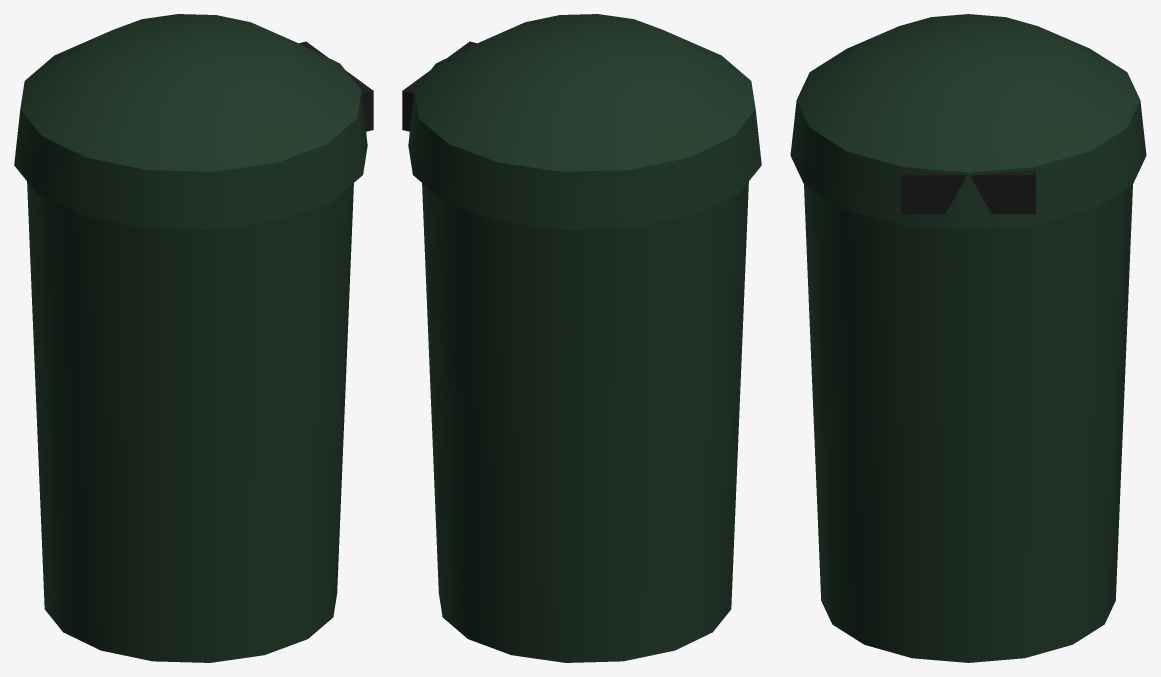
The model's file is SM_Prop_litter_bin_0.glb.
3 views of the same model, side by side, from view 1: azimuth 30°, elevation 25°; view 2: azimuth 150°, elevation 25°; view 3: azimuth 270°, elevation 25° (orthographic).
Parts seen in each view (by area): view 1: SM_Prop_litter_bin_0; view 2: SM_Prop_litter_bin_0; view 3: SM_Prop_litter_bin_0.
Part boxes in pixels (x1,y1,x2,y2): SM_Prop_litter_bin_0: [14, 14, 373, 662]; SM_Prop_litter_bin_0: [402, 14, 761, 662]; SM_Prop_litter_bin_0: [790, 14, 1146, 662].
Size of the model in its own units: 0.58 by 1 by 0.58.
